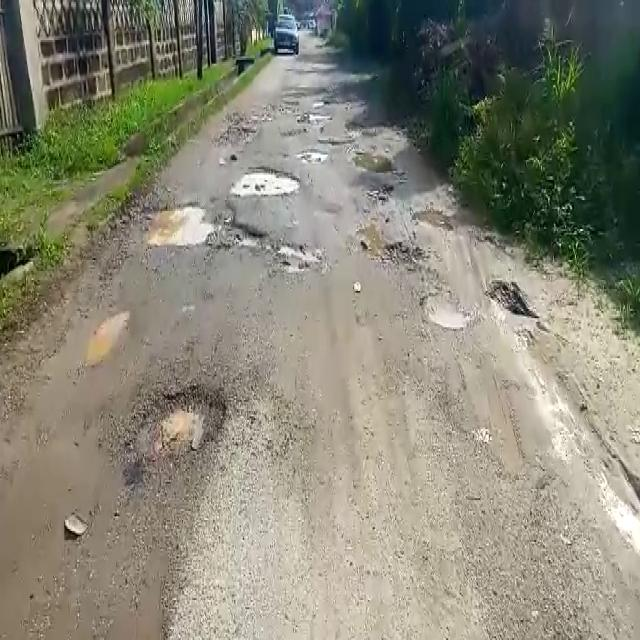Pothole: (118, 383, 232, 483), (239, 226, 326, 274), (142, 200, 217, 248), (230, 164, 302, 196), (422, 292, 474, 328), (300, 148, 334, 161)
